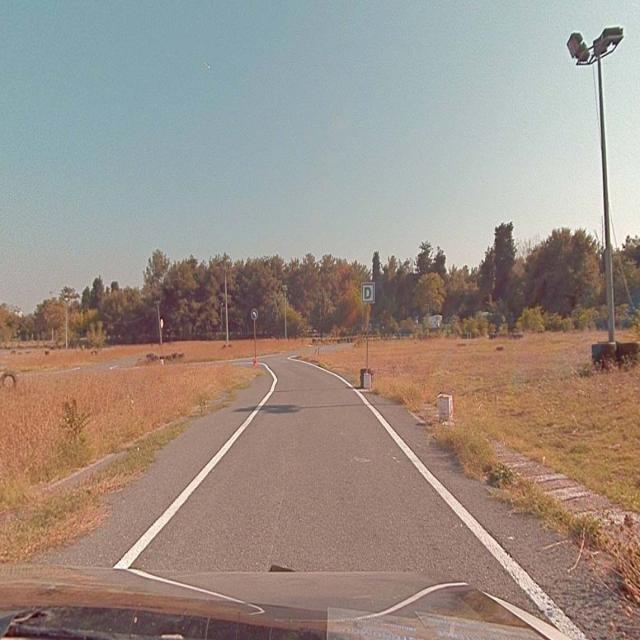durak: (363, 283, 374, 301)
